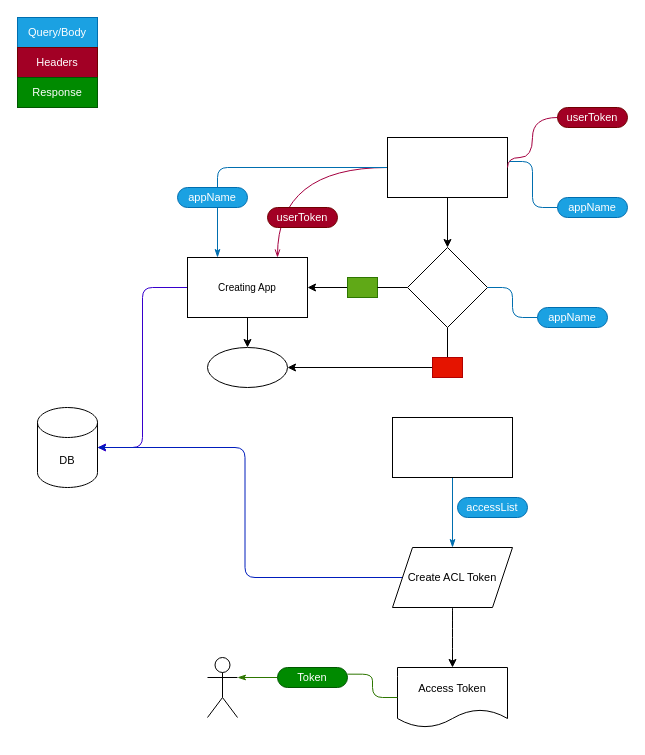
Image size: 645x755. Some labels were removed from this diagram. The box of each missing label's shape, as (x1, y1, x2, y2) in pixels:
Create New App: (386, 136, 508, 198)
Create New Token: (392, 416, 512, 478)
Done: (206, 346, 288, 388)
is_exists?: (406, 246, 488, 328)
No: (346, 276, 378, 298)
User: (206, 656, 238, 718)
Yes: (432, 356, 462, 378)
